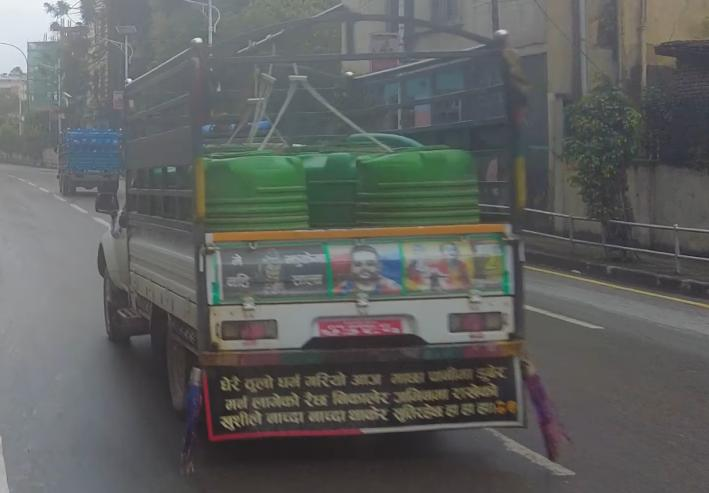mini_truck: (49, 121, 138, 204)
transport_vehicle: (94, 16, 541, 441)
